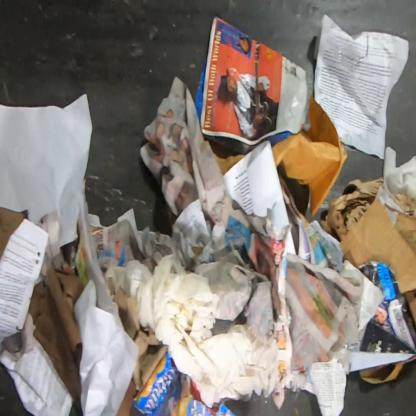cardboard: (27, 264, 85, 415), (339, 185, 415, 294), (0, 206, 29, 265), (404, 286, 416, 326)
soft_plastic: (133, 351, 238, 415)
